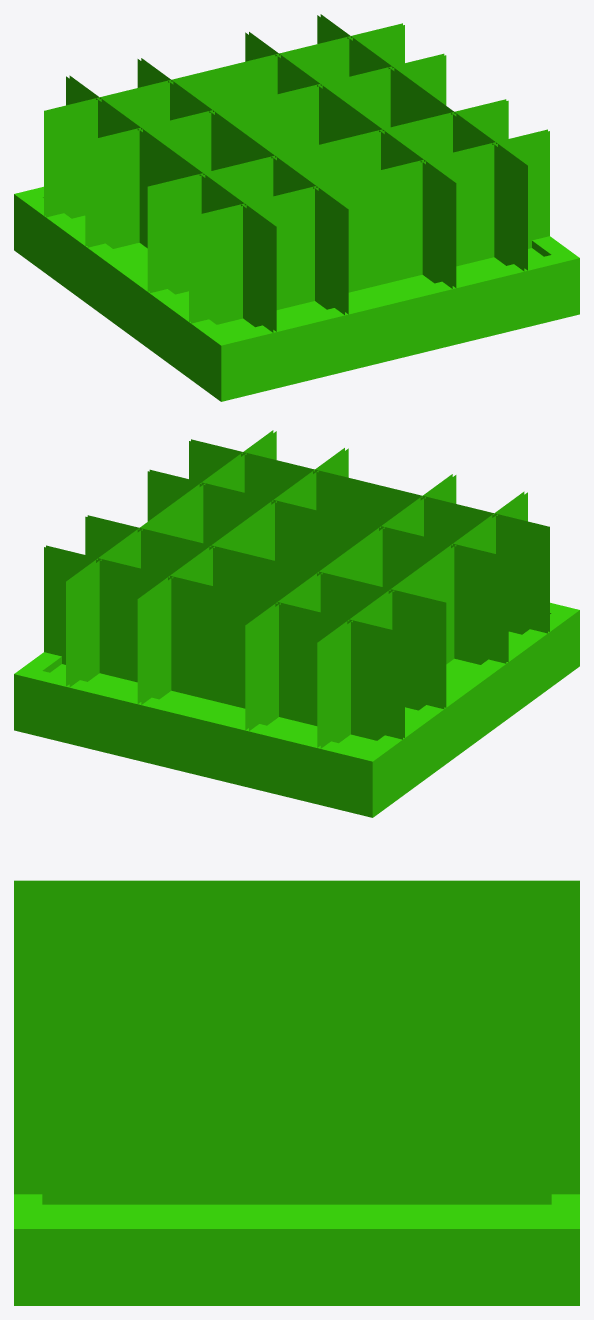
The model's file is flowerbed5_2x2.fbx.
The picture shows the model from 3 angles, top to bottom: view 1: azimuth 30°, elevation 25°; view 2: azimuth 150°, elevation 25°; view 3: azimuth 270°, elevation 25°; orthographic projection. The views are drawn at different scales.
Parts seen in each view (by area): view 1: flowerbed5_2x2; view 2: flowerbed5_2x2; view 3: flowerbed5_2x2.
Part boxes in pixels (x1=…): flowerbed5_2x2: x1=14, y1=14, x2=579, y2=401; flowerbed5_2x2: x1=14, y1=430, x2=579, y2=817; flowerbed5_2x2: x1=14, y1=880, x2=579, y2=1305.
Bounding box in the file's own units: 200 × 86 × 200.
